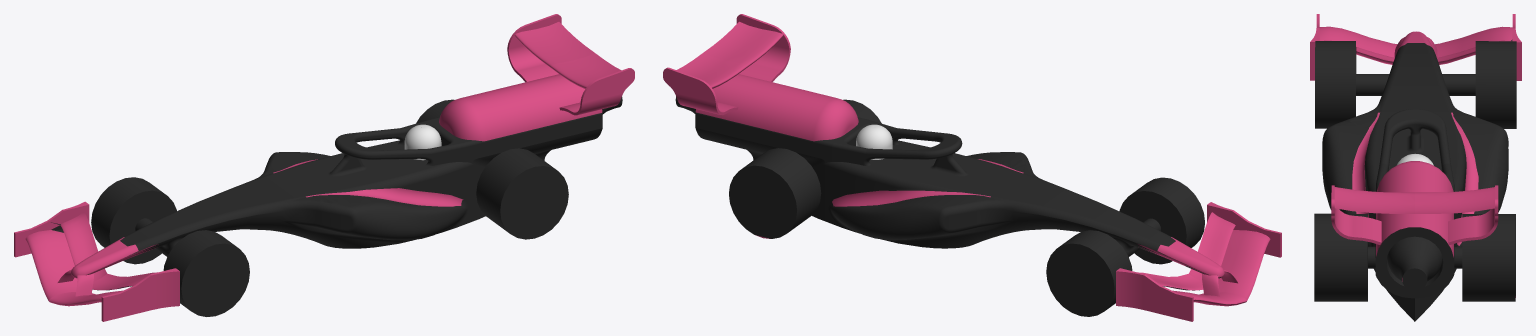
The model's file is showcar.glb.
The picture shows the model from 3 angles, left to right: view 1: azimuth 30°, elevation 25°; view 2: azimuth 150°, elevation 25°; view 3: azimuth 270°, elevation 25°; orthographic projection. The views are drawn at different scales.
Parts seen in each view (by area): view 1: Hermes Showcar v1; view 2: Hermes Showcar v1; view 3: Hermes Showcar v1.
Boxes of the visible parts, <box> form: Hermes Showcar v1: <box>14,14,634,321</box>; Hermes Showcar v1: <box>663,14,1281,321</box>; Hermes Showcar v1: <box>1310,14,1521,321</box>.
Size of the model in its own units: 6.31 by 1.48 by 1.83.
